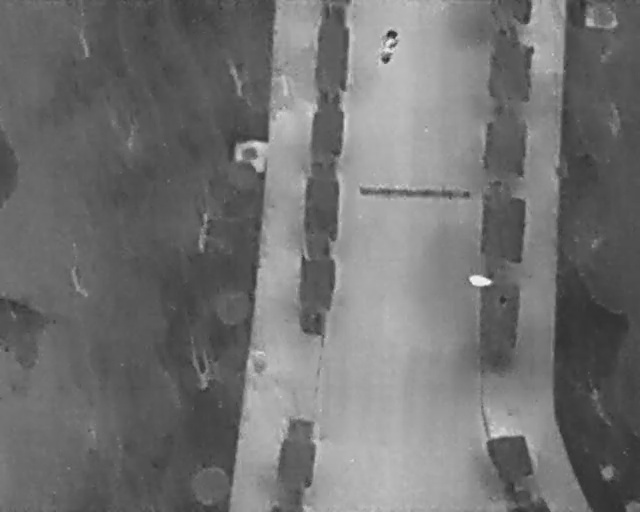Bicycle: (377, 27, 400, 65)
